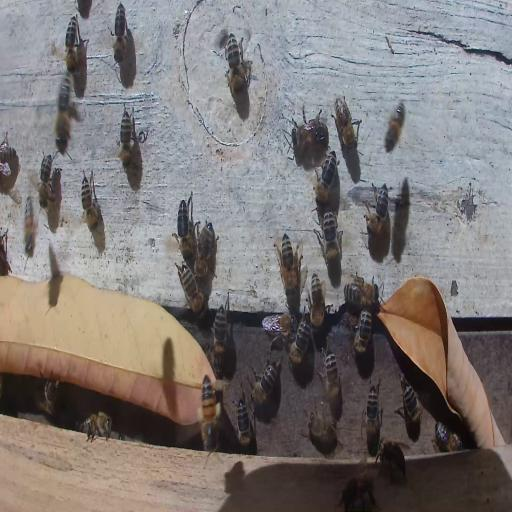bee: (197, 373, 222, 453), (332, 94, 360, 156), (224, 36, 251, 98), (292, 110, 330, 154), (54, 72, 73, 153), (176, 264, 206, 314), (365, 182, 391, 238), (318, 209, 342, 269), (379, 436, 407, 484), (306, 405, 335, 451), (343, 472, 378, 510), (22, 194, 42, 260), (399, 376, 424, 428), (194, 221, 216, 280), (80, 170, 100, 234), (277, 232, 297, 296), (319, 348, 341, 406), (314, 151, 337, 206), (175, 193, 193, 261), (211, 303, 229, 371), (343, 275, 380, 308), (118, 106, 136, 171), (384, 100, 406, 151), (234, 396, 255, 447), (77, 413, 112, 442), (250, 364, 276, 403), (38, 150, 54, 211), (288, 321, 310, 364), (352, 309, 372, 356), (310, 272, 326, 330), (112, 3, 127, 63), (366, 382, 380, 446), (433, 424, 463, 453), (64, 15, 78, 74), (261, 314, 295, 337), (0, 133, 18, 173), (42, 378, 58, 416), (1, 228, 10, 274)
